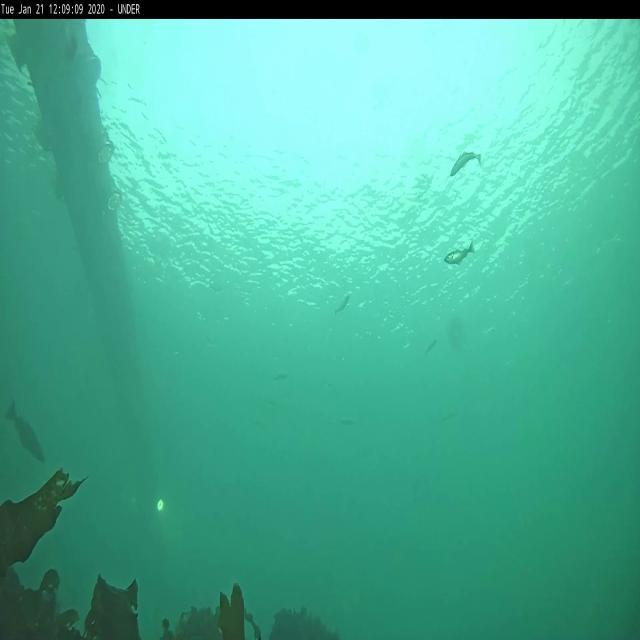fish: (5, 404, 46, 466), (450, 148, 482, 180), (444, 246, 474, 266), (334, 294, 350, 316)
